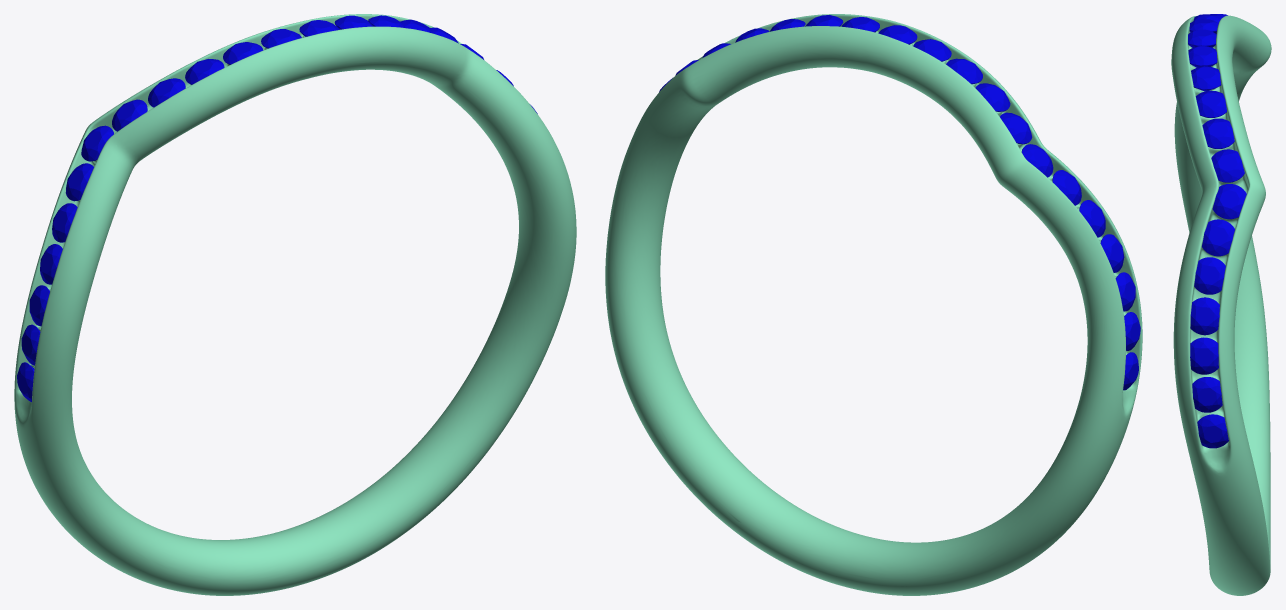
The picture shows the model from 3 angles, left to right: view 1: azimuth 30°, elevation 25°; view 2: azimuth 150°, elevation 25°; view 3: azimuth 270°, elevation 25°; orthographic projection. The views are drawn at different scales.
Visible parts, largest first — view 1: Metal03, Diamond_Band.023; view 2: Metal03; view 3: Metal03, Diamond_Band.022, Diamond_Band.003, Diamond_Band.002, Diamond_Band.004, Diamond_Band.001, Diamond_Band.005, Diamond_Band, Diamond_Band.006, Diamond_Band.007, Diamond_Band.008, Diamond_Band.009 (+4 smaller).
Part boxes in pixels (bbox=[...]): Metal03: bbox=[14, 14, 576, 595]; Diamond_Band.023: bbox=[81, 125, 113, 161]; Metal03: bbox=[605, 14, 1142, 595]; Metal03: bbox=[1171, 15, 1271, 595]; Diamond_Band.022: bbox=[1190, 297, 1219, 335]; Diamond_Band.003: bbox=[1194, 257, 1225, 294]; Diamond_Band.002: bbox=[1190, 337, 1218, 374]; Diamond_Band.004: bbox=[1202, 219, 1234, 256]; Diamond_Band.001: bbox=[1192, 377, 1222, 412]; Diamond_Band.005: bbox=[1212, 184, 1246, 219]; Diamond_Band: bbox=[1197, 414, 1228, 448]; Diamond_Band.006: bbox=[1211, 149, 1244, 182]; Diamond_Band.007: bbox=[1202, 118, 1234, 148]; Diamond_Band.008: bbox=[1195, 90, 1226, 117]; Diamond_Band.009: bbox=[1191, 66, 1221, 91].
Size of the model in its own units: 20.75 by 20.8 by 3.58.
